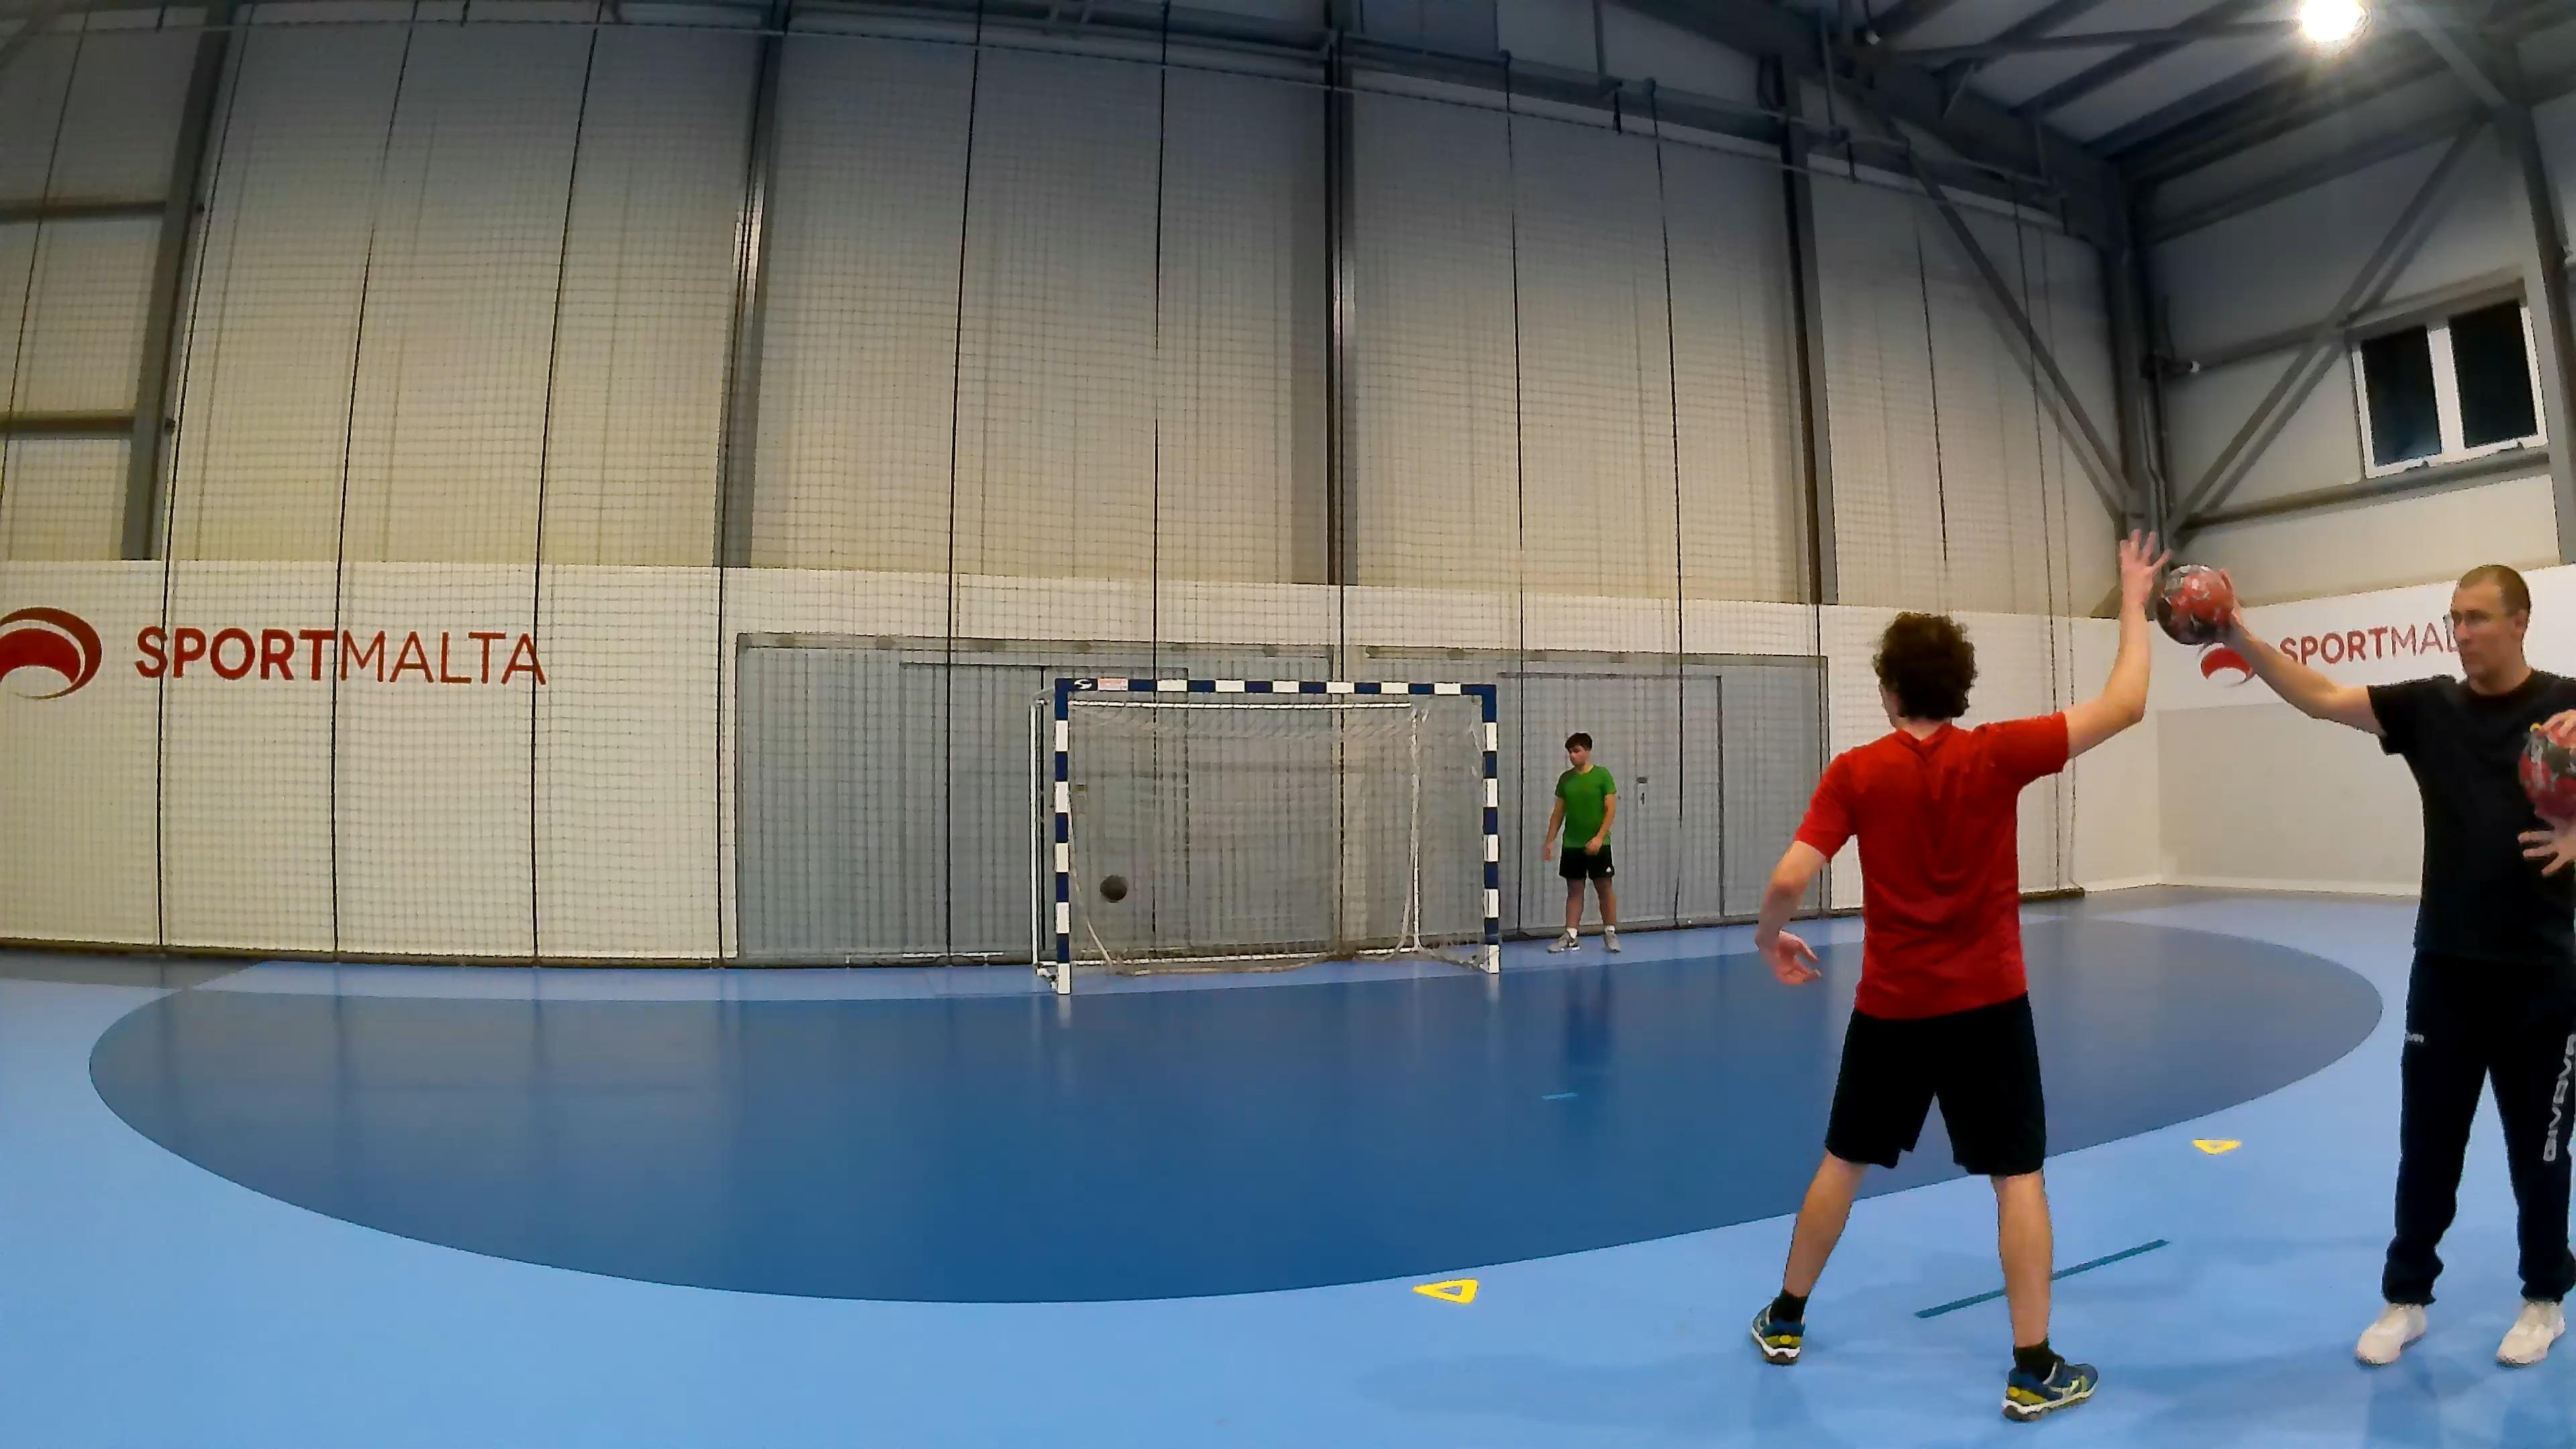handball: (2507, 695, 2576, 832), (2153, 563, 2235, 646), (1100, 867, 1132, 908)
